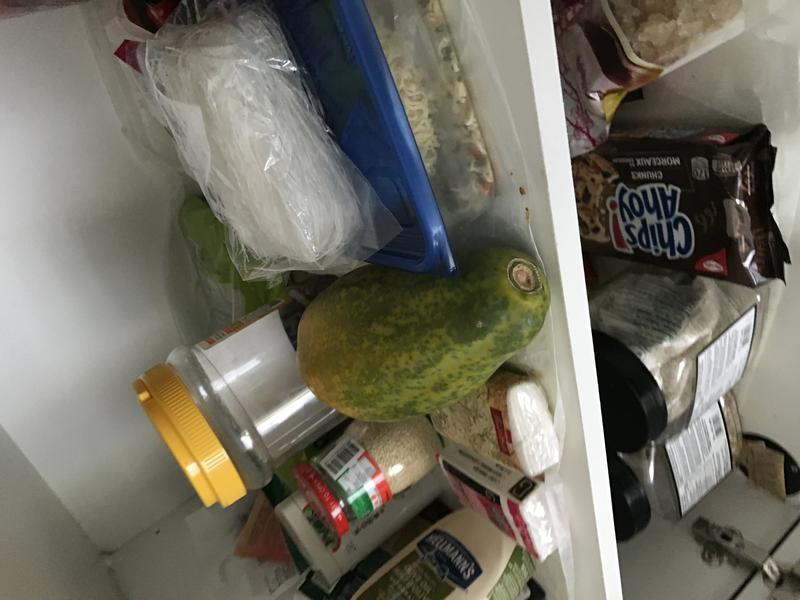papaya: (280, 235, 571, 431)
